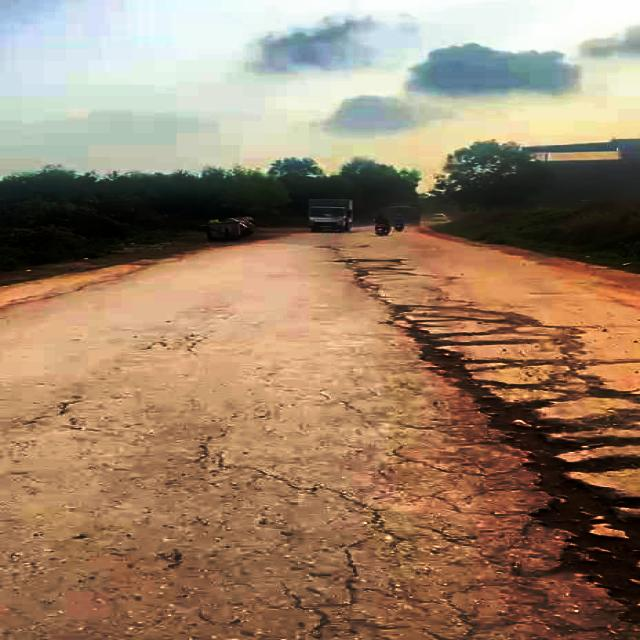pothole: (379, 306, 640, 621)
